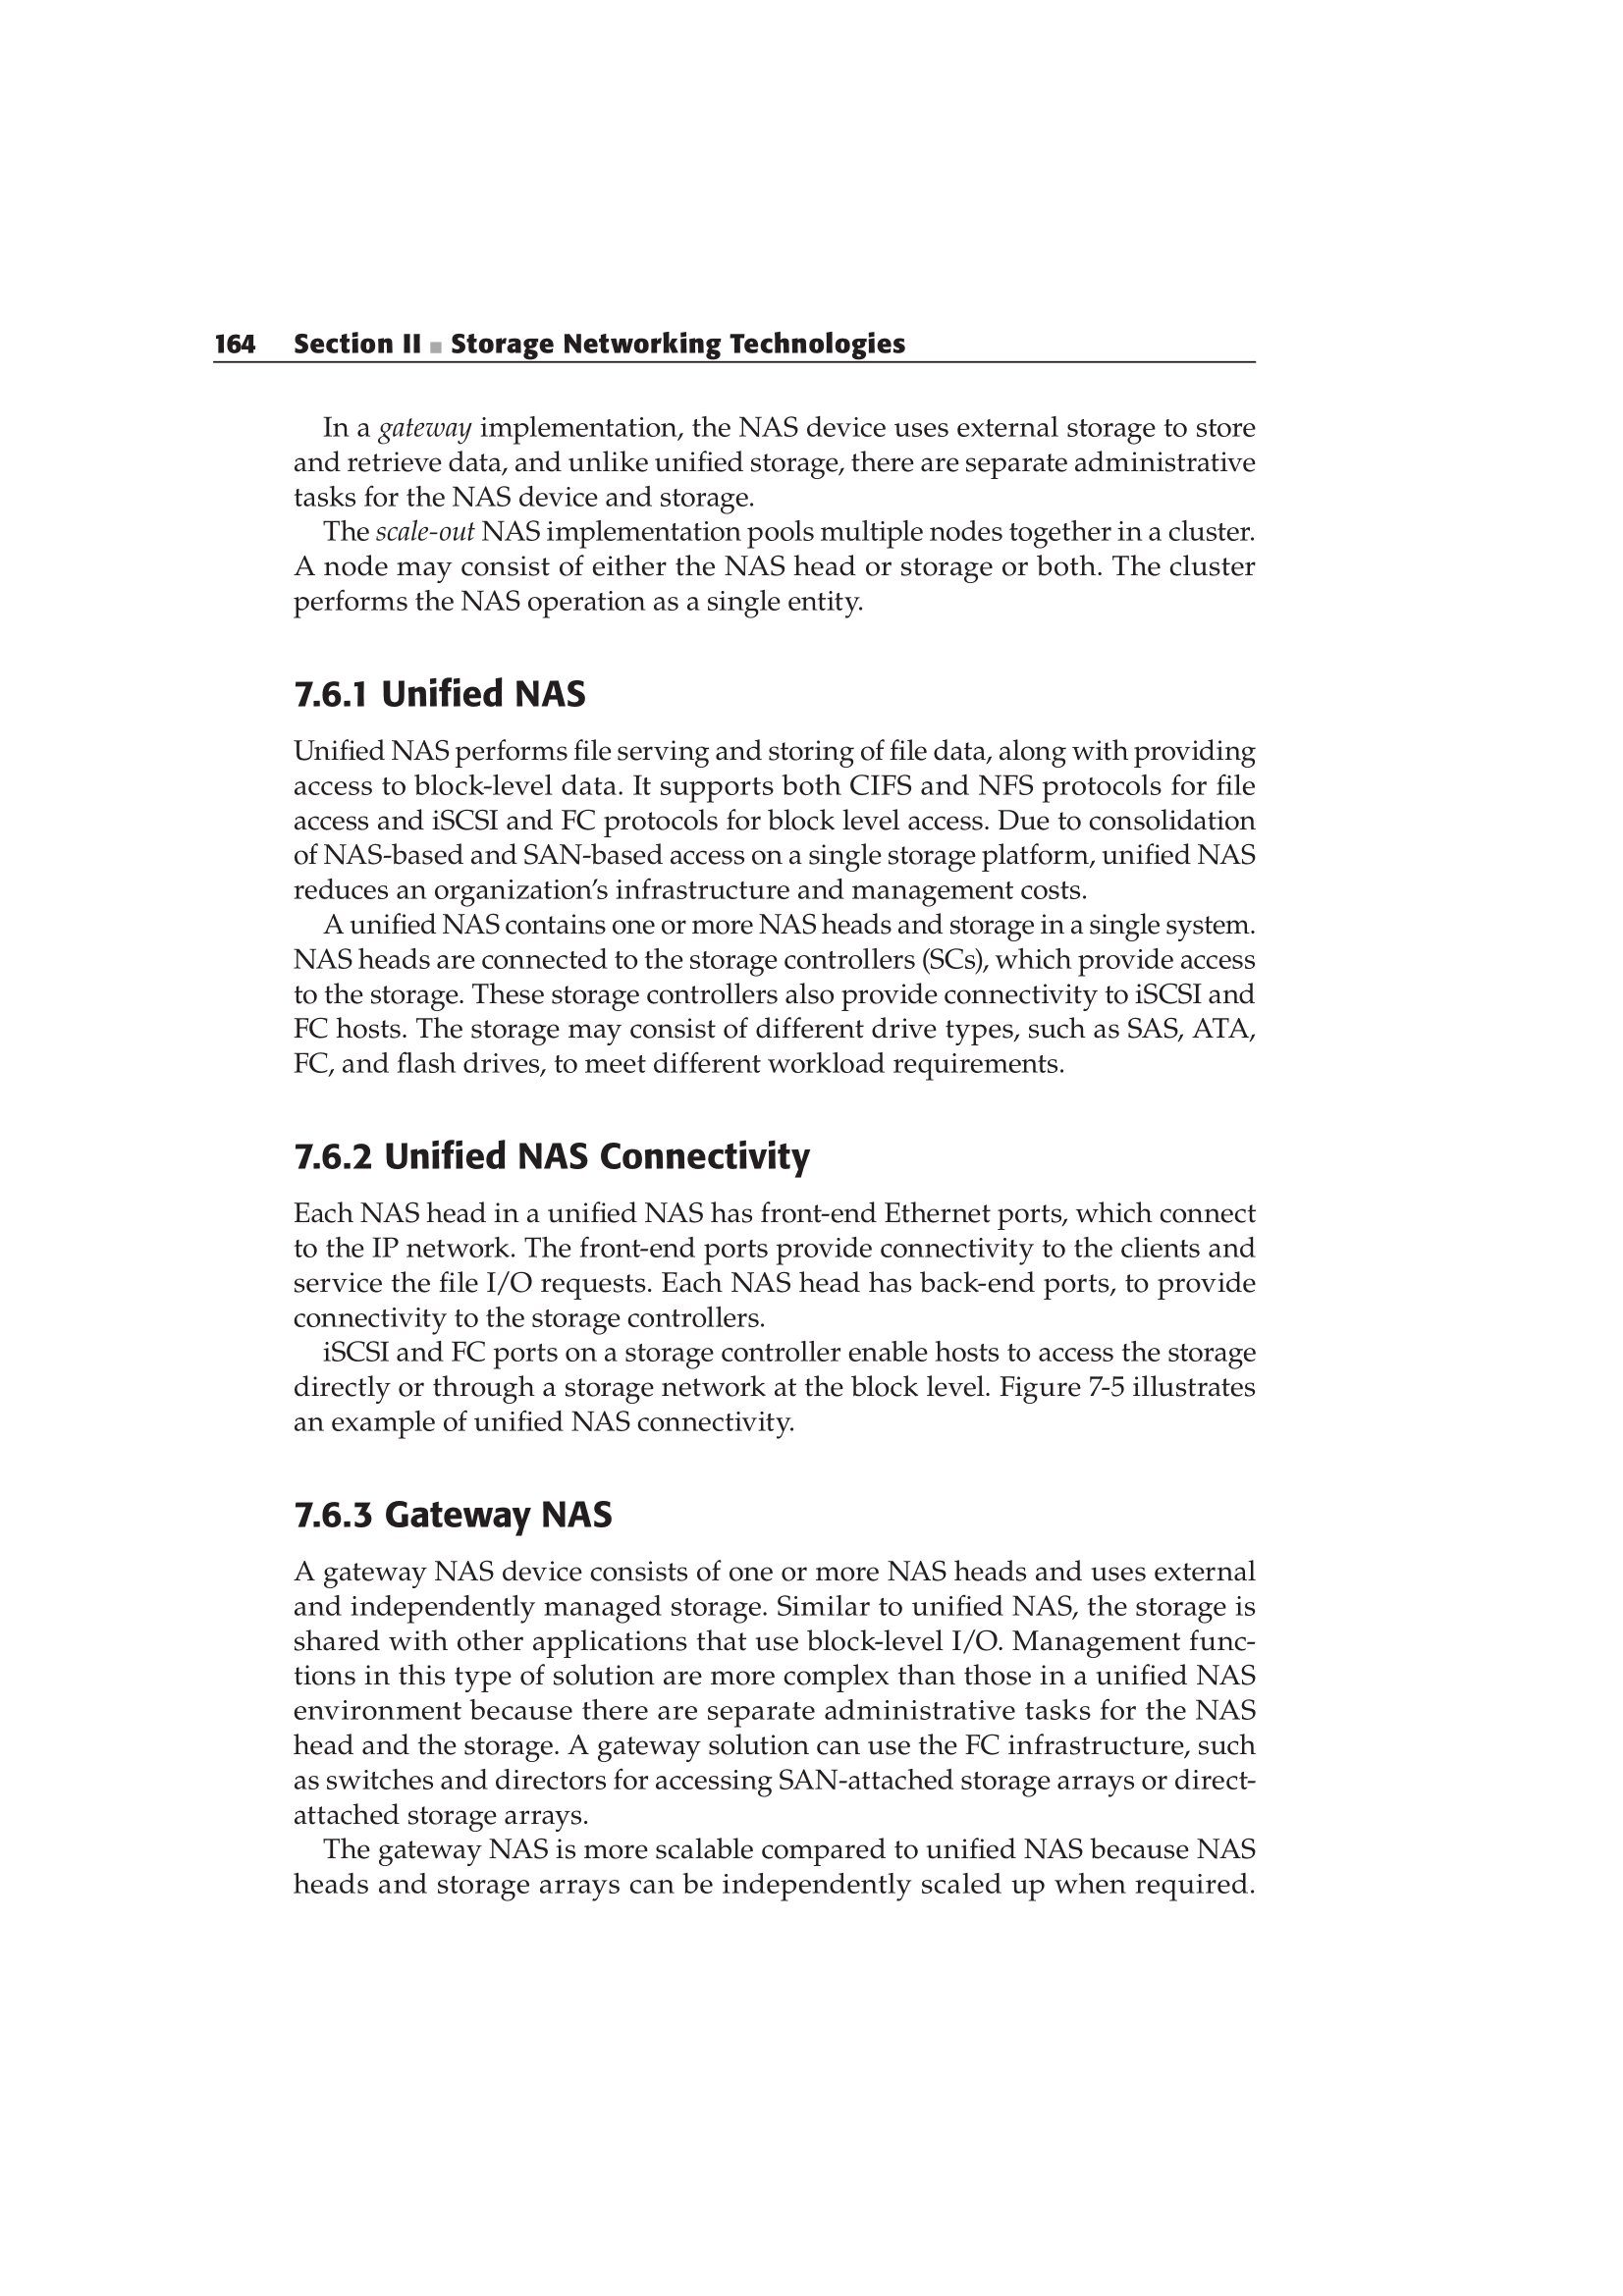Paragraph: (214, 1559, 1375, 1906), (193, 741, 1324, 1085), (218, 1206, 1403, 1480), (167, 390, 1451, 616), (63, 223, 1077, 377), (97, 646, 789, 725), (142, 1127, 913, 1185), (184, 1499, 804, 1529)
